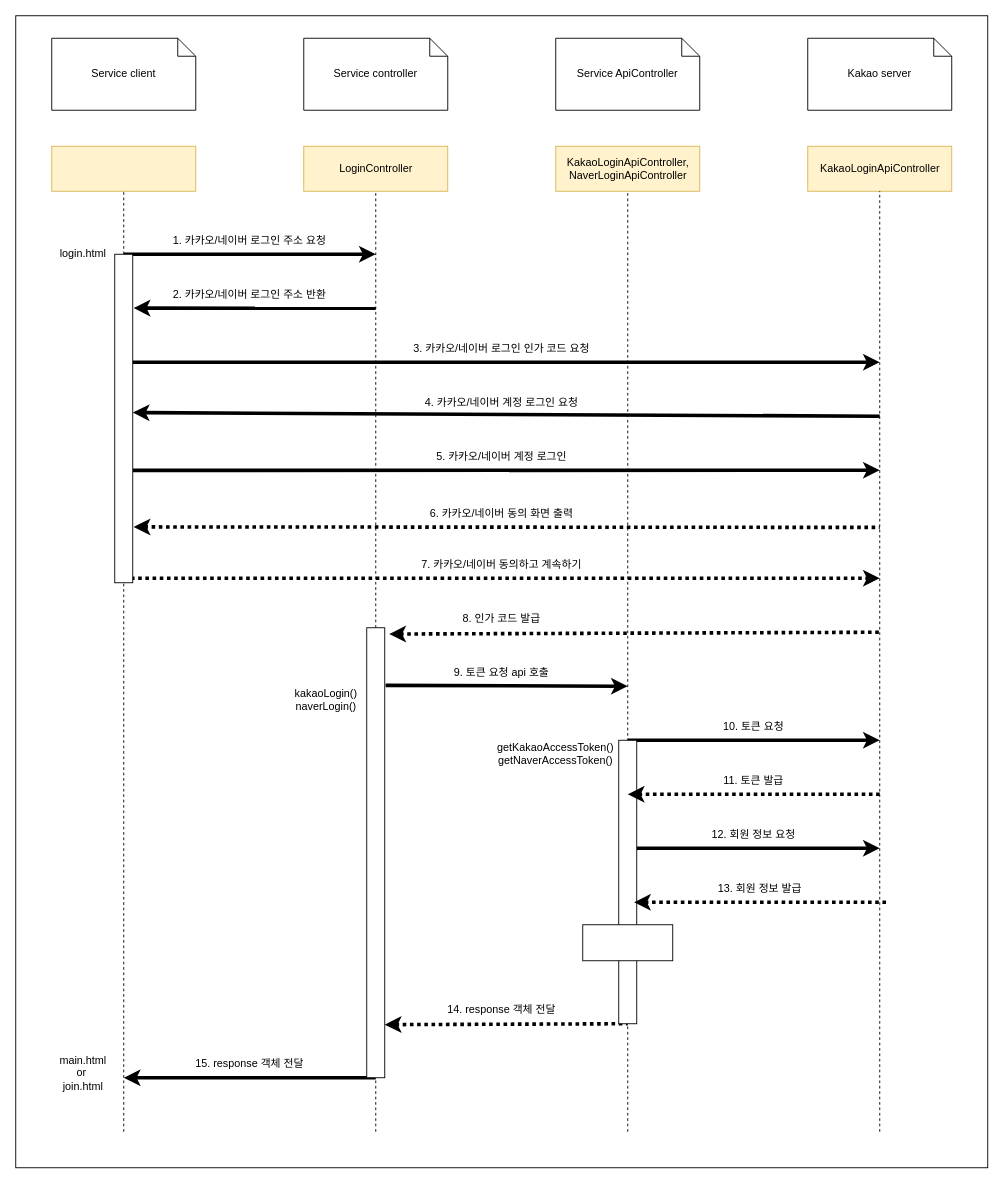
The diagram is 1004 pixels wide and 1184 high, and some of its shapes have lost their labels. The shapes that lost their labels are listed below. From the top down, each one's box as (x1, y1, x2, y2) in pixels, then its label:
(51, 145, 196, 191): login.html, join.html, main.html
(582, 924, 673, 961): DB 조회
